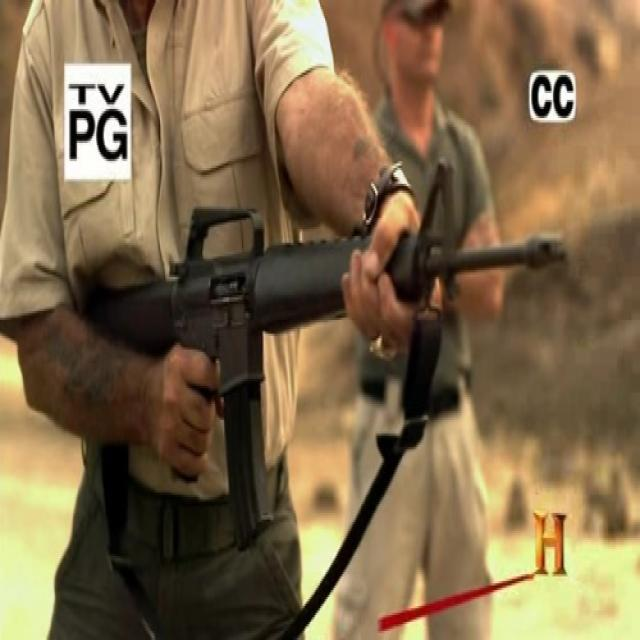rifle: (93, 153, 567, 555)
